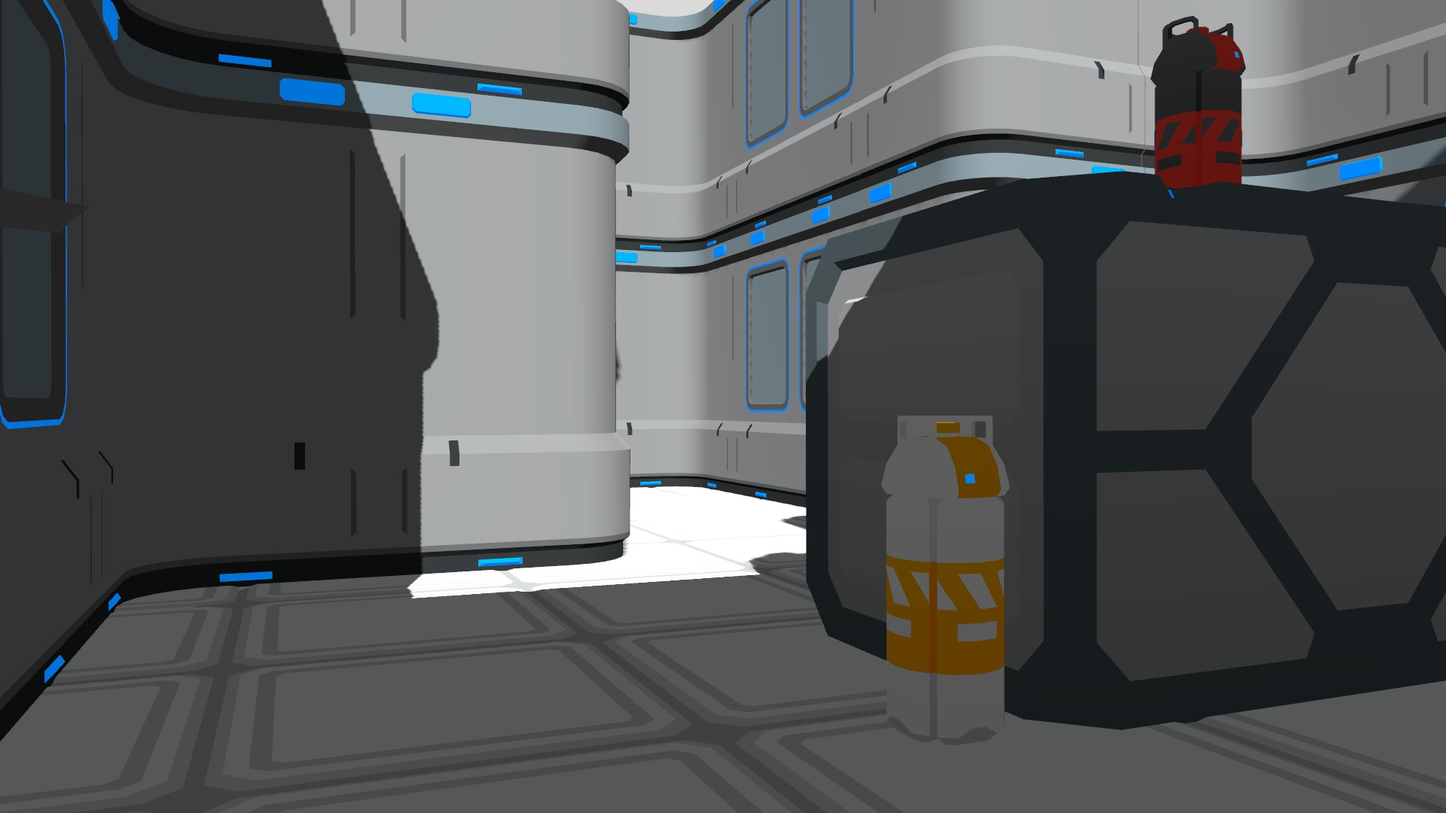red_barrel: (1155, 13, 1250, 196)
yellow_barrel: (874, 408, 1012, 747)
